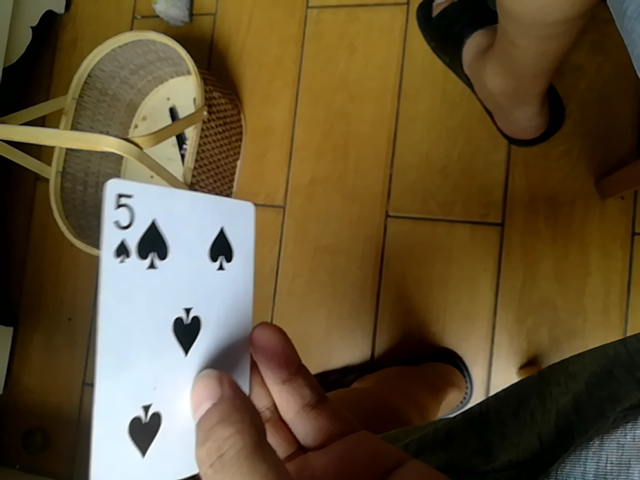ht 5: (84, 174, 260, 476)
